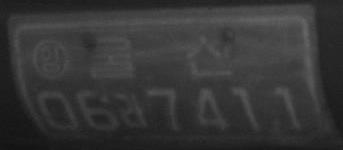0: (37, 89, 78, 132)
1: (267, 85, 305, 132), (230, 85, 266, 131)
4: (192, 86, 229, 131)
6: (79, 87, 119, 131)
7: (151, 86, 180, 132)
라: (118, 90, 151, 129)
영: (31, 37, 68, 78)
울산_D: (87, 30, 235, 78)
